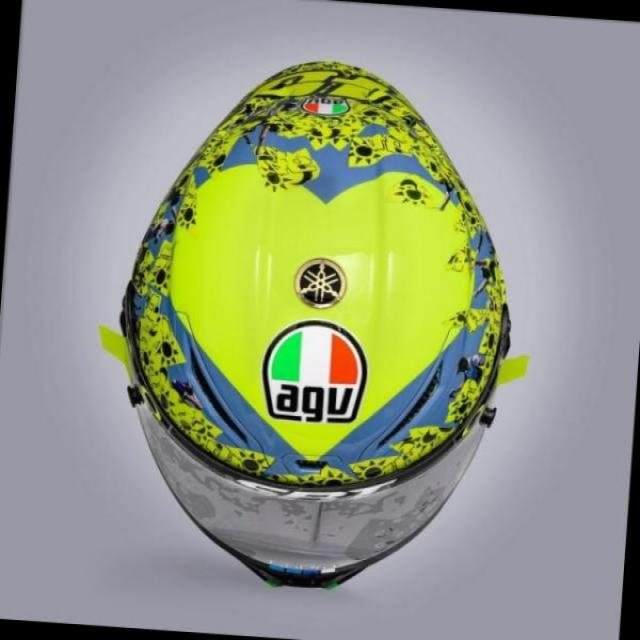Helmet: (121, 81, 518, 621)
